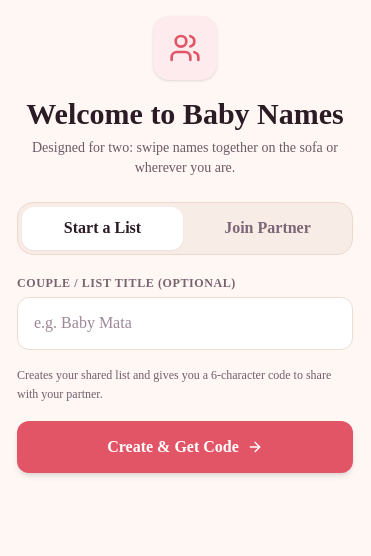
Scenario: OnboardingScreen › shows an error when the new couple cannot be reloaded
Click the button "Create & Get Code" at x=185, y=447, box top-left (17, 421), bottom-right (353, 473)
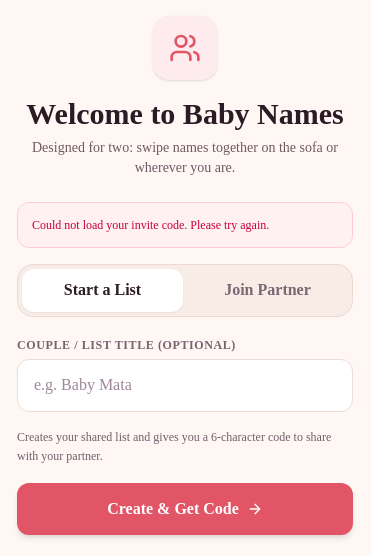
expect the text "Could not load your invite code. Please try again." is shown: met, box top-left (17, 202), bottom-right (353, 248)
